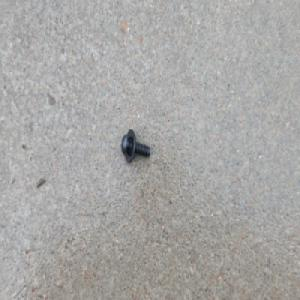BoltWasher: (120, 126, 150, 162)
